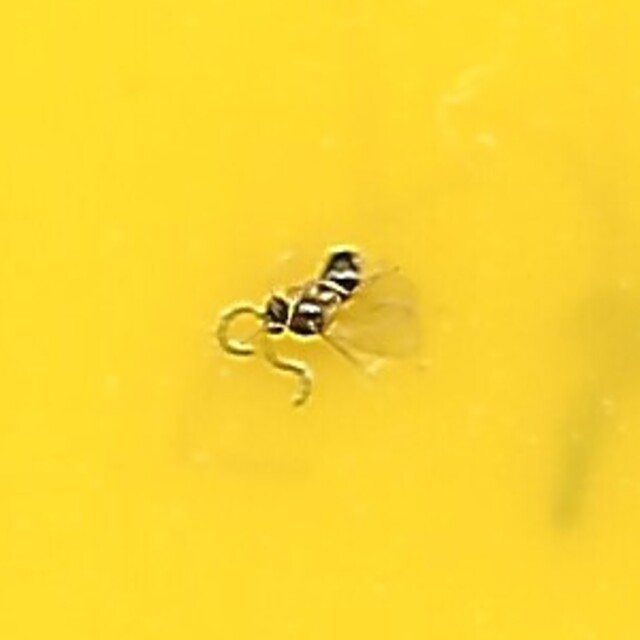Hymenoptera: (213, 242, 427, 398)
